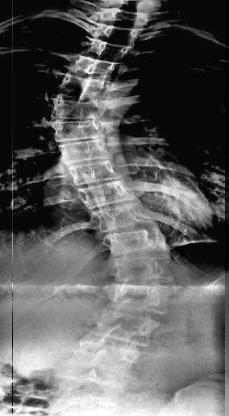Vertebrae: (79, 334, 147, 368), (102, 308, 164, 344), (104, 228, 172, 256), (112, 284, 174, 312), (92, 202, 152, 230), (119, 256, 179, 282), (64, 160, 128, 184), (83, 184, 141, 208), (54, 74, 110, 98), (46, 95, 102, 119), (51, 118, 103, 142), (68, 56, 119, 76), (100, 7, 150, 27), (56, 142, 114, 158), (86, 42, 136, 58), (94, 30, 142, 42)
